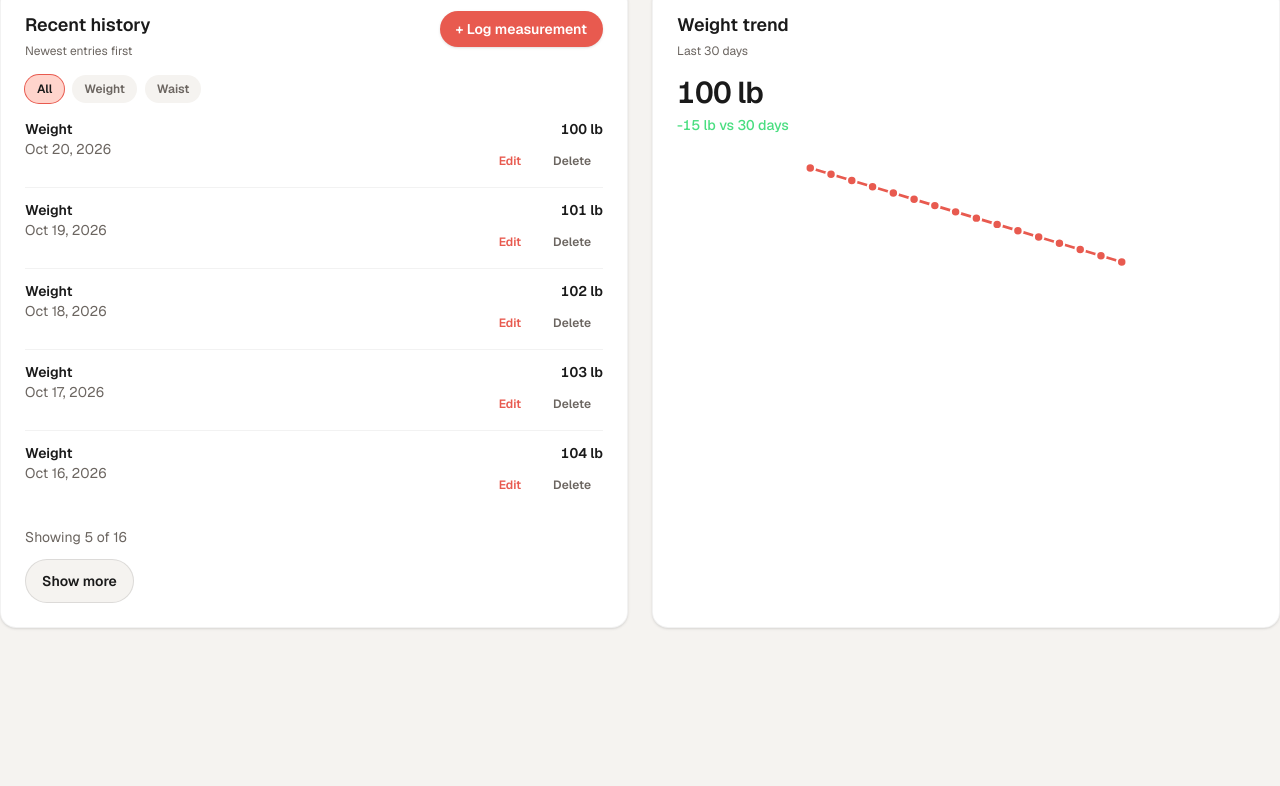
Test case: measurement history window › keeps the expanded window after delete and clamps when fewer rows remain
Click the button with aria-label "Show more measurements" at (79, 581), box top-left (25, 559), bottom-right (134, 603)
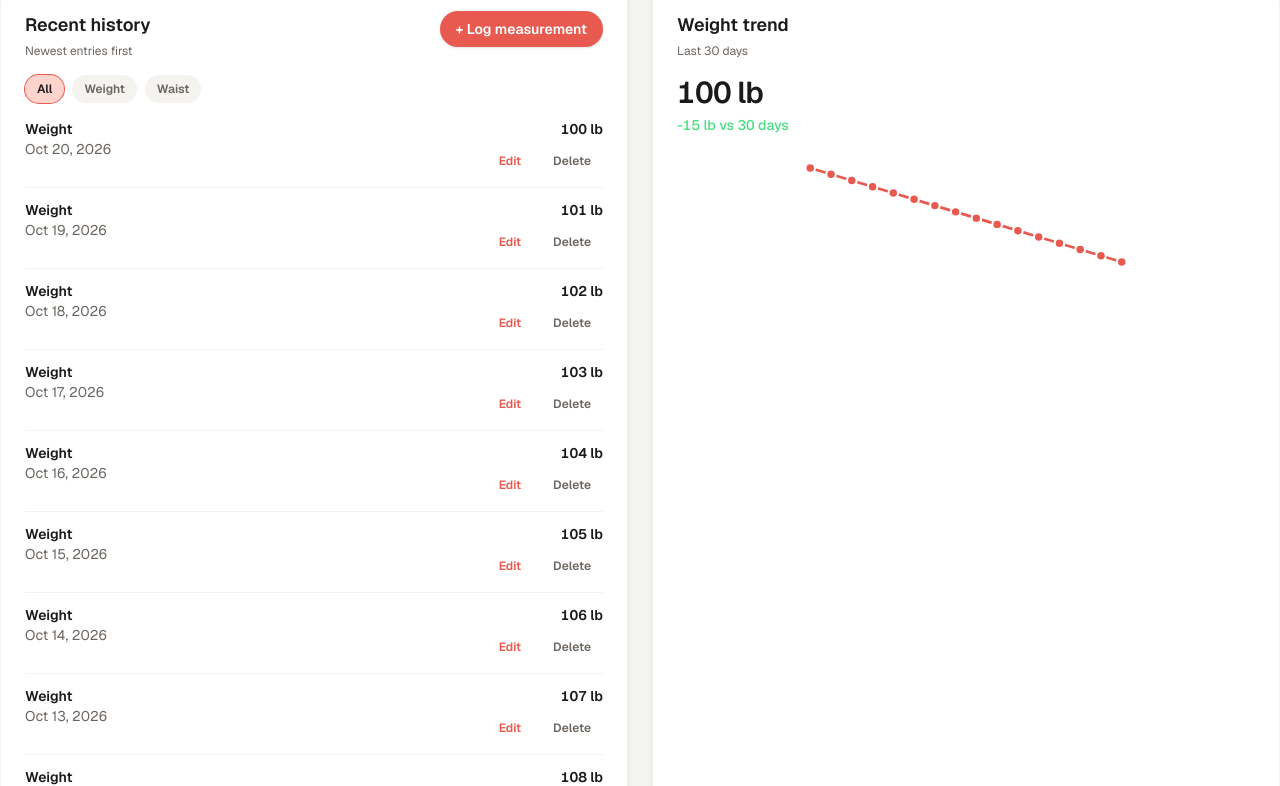
Check: the number of list items is 15
Click the button with aria-label "Delete Weight on Oct 20, 2026" at (572, 161), box top-left (541, 139), bottom-right (603, 183)
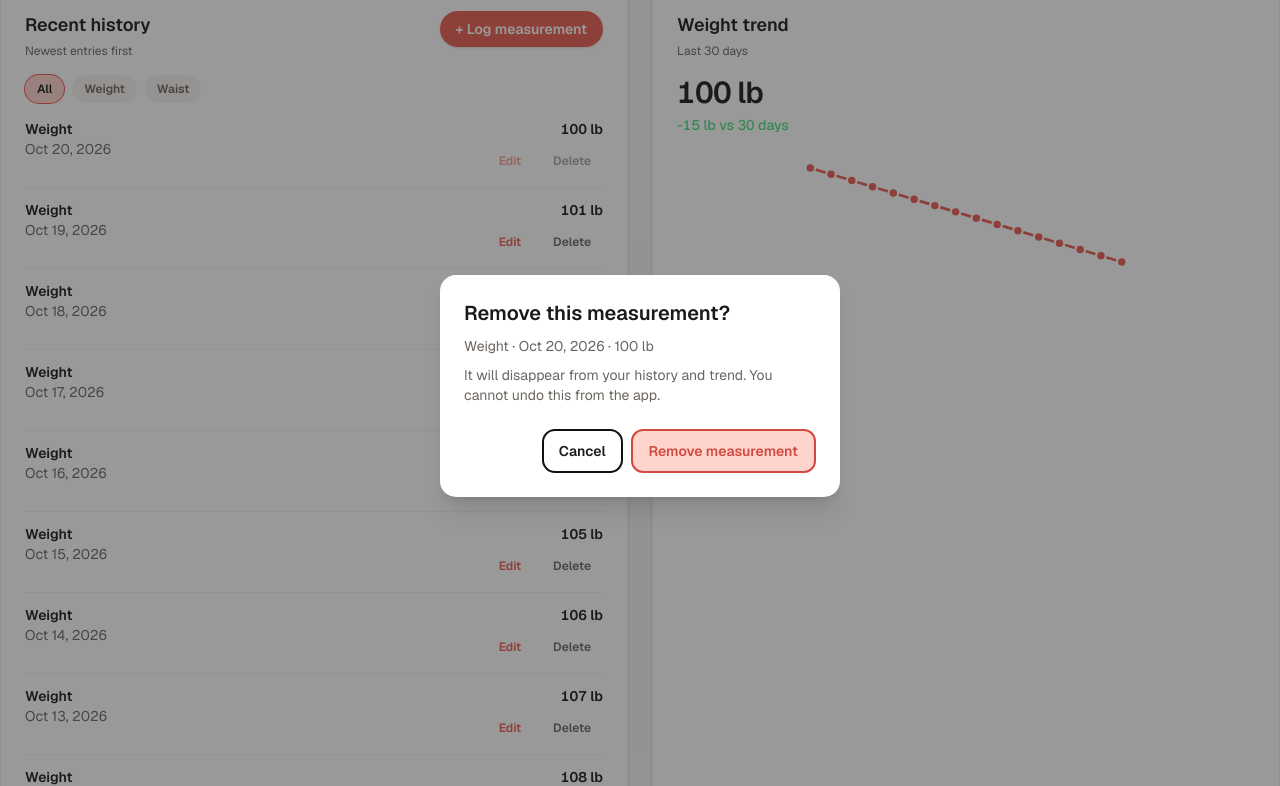
Click the button "Remove measurement" at (723, 451), box top-left (631, 429), bottom-right (816, 473)
(page scrolled)
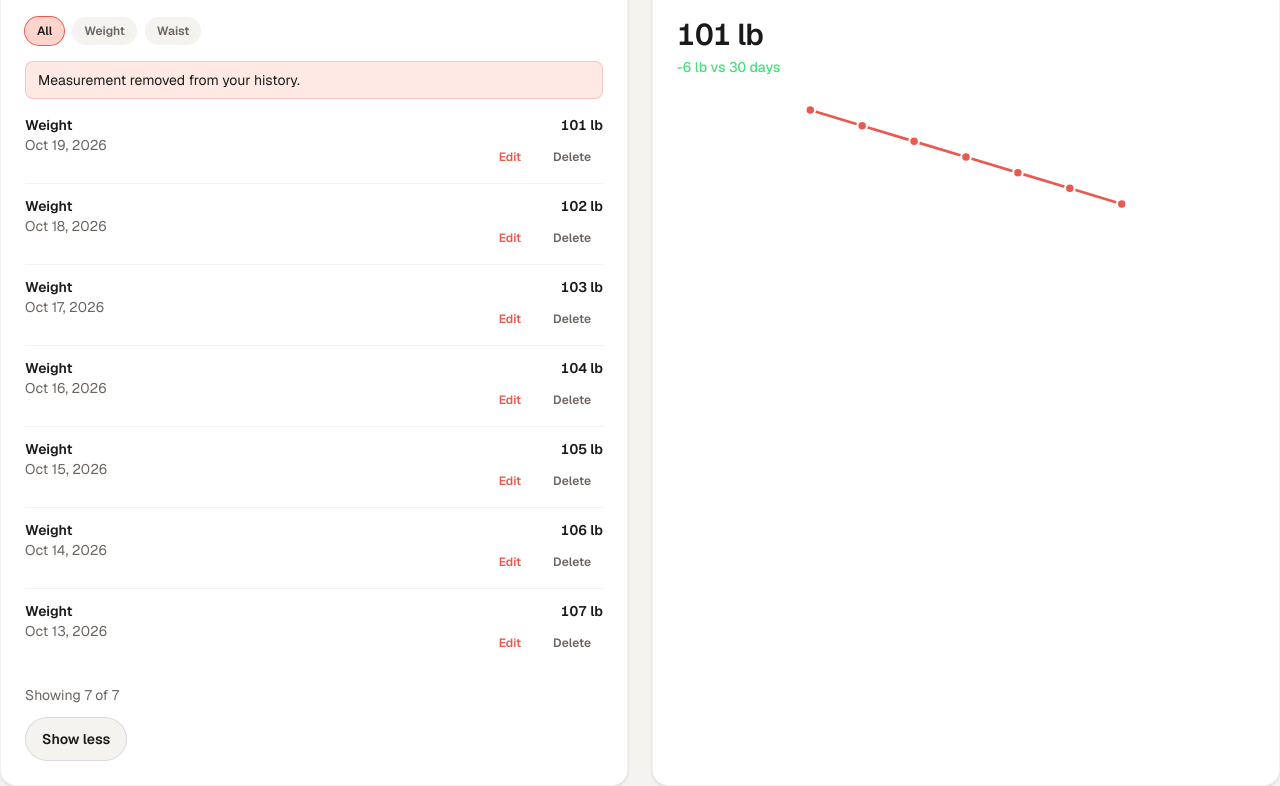
Check: the text "Showing 7 of 7" is shown, box top-left (25, 686), bottom-right (119, 704)
Check: the number of list items is 7
Check: the text "100 lb" is gone
Click the button with aria-label "Show less measurements" at (76, 739), box top-left (25, 717), bottom-right (127, 761)
(page scrolled)
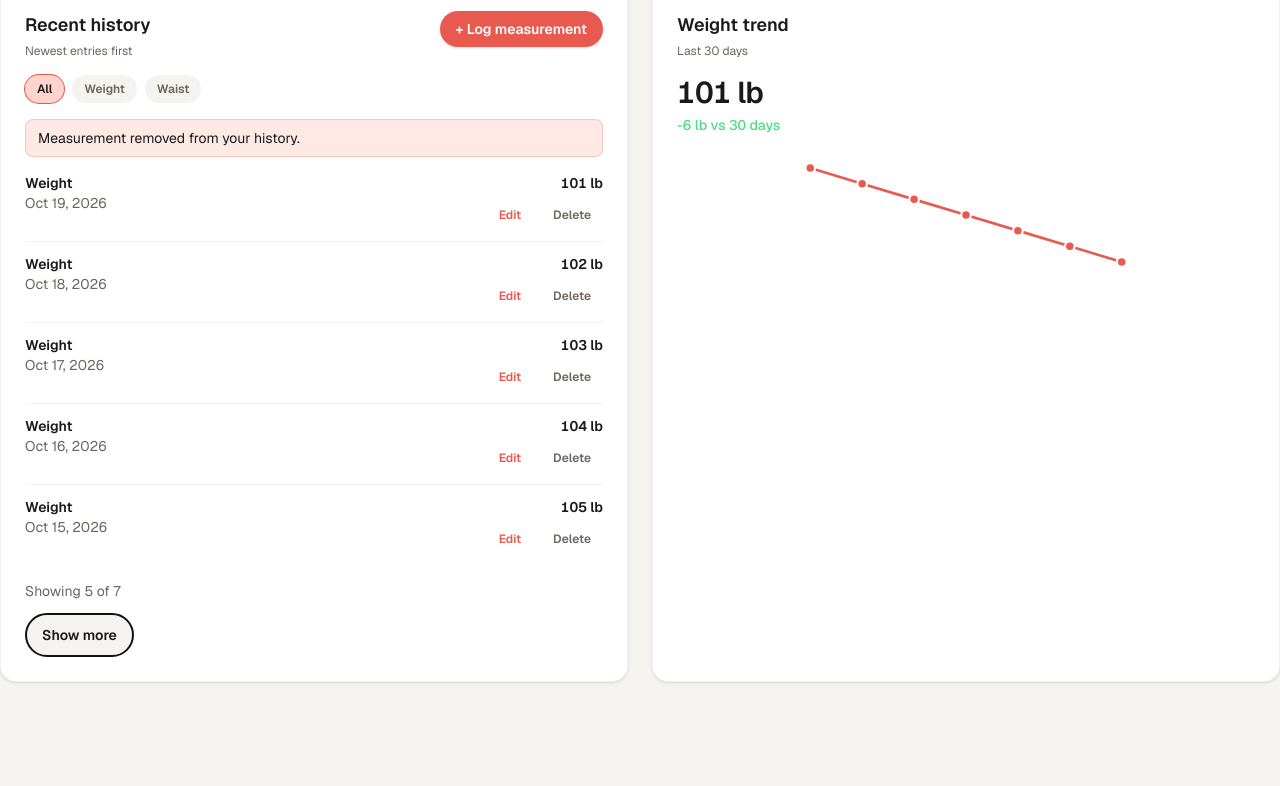
Check: the text "Showing 5 of 7" is shown, box top-left (25, 582), bottom-right (121, 600)
Check: the number of list items is 5, box top-left (25, 173), bottom-right (603, 242); top-left (25, 242), bottom-right (603, 323); top-left (25, 323), bottom-right (603, 404); top-left (25, 404), bottom-right (603, 485); top-left (25, 485), bottom-right (603, 565)
Check: the text "106 lb" is gone
